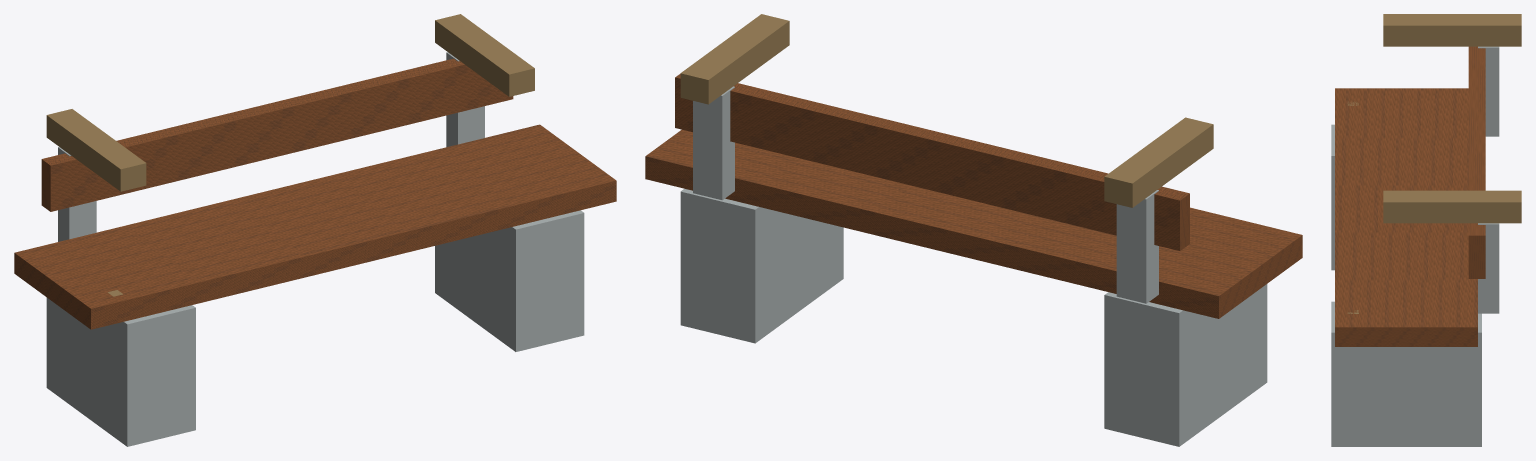
Rendered from bench_alt.glb.
3 renders of one model, left to right at view 1: azimuth 30°, elevation 25°; view 2: azimuth 150°, elevation 25°; view 3: azimuth 270°, elevation 25°, orthographic. The views are drawn at different scales.
Parts seen in each view (by area): view 1: bench_alt; view 2: bench_alt; view 3: bench_alt.
Boxes of the visible parts, x1,y1,x2,y2 form: bench_alt: (14,14,616,446); bench_alt: (645,14,1302,446); bench_alt: (1331,14,1521,446).
Bounding box in the file's own units: 1.84 × 0.8425 × 0.62.
3 materials, 1 textured.
